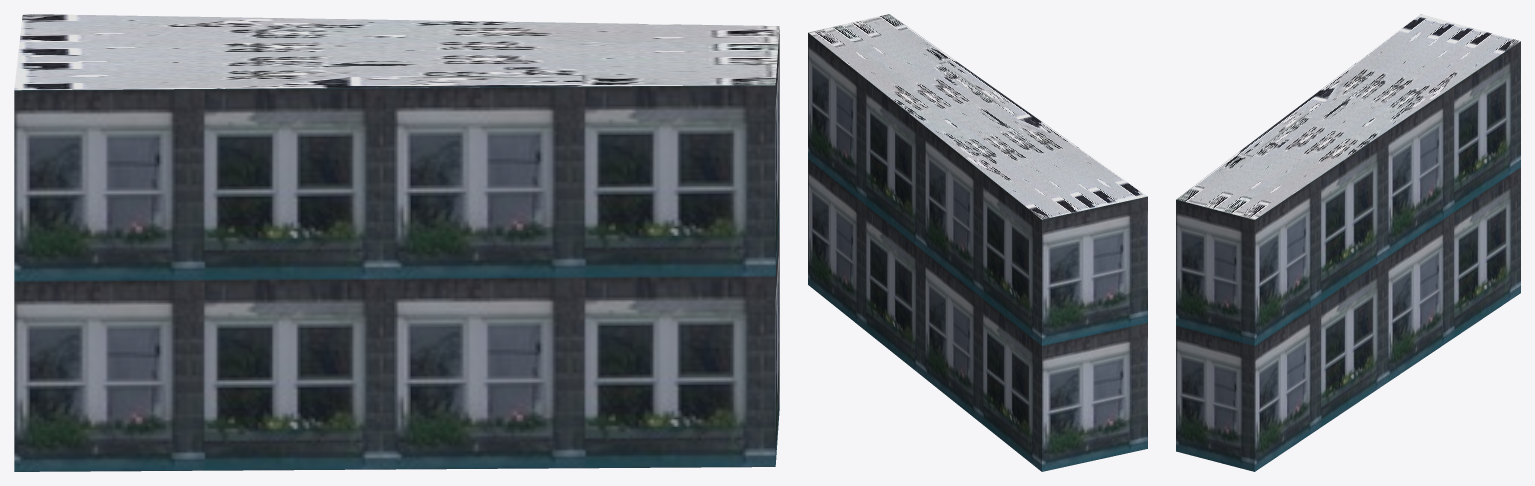
File: ResTex__5214.fbx
3 renders of one model, left to right at view 1: azimuth 30°, elevation 25°; view 2: azimuth 150°, elevation 25°; view 3: azimuth 270°, elevation 25°, orthographic. The views are drawn at different scales.
Visible parts, largest first — view 1: CityEngineMaterial_11_m, CityEngineMaterial_4_m; view 2: CityEngineMaterial_11_m, CityEngineMaterial_4_m; view 3: CityEngineMaterial_11_m, CityEngineMaterial_4_m.
Boxes of the visible parts, left/top/right/bottom form: CityEngineMaterial_11_m: left=14, top=29, right=779, bottom=471; CityEngineMaterial_4_m: left=14, top=14, right=779, bottom=90; CityEngineMaterial_11_m: left=808, top=33, right=1147, bottom=471; CityEngineMaterial_4_m: left=808, top=14, right=1147, bottom=219; CityEngineMaterial_11_m: left=1176, top=41, right=1520, bottom=471; CityEngineMaterial_4_m: left=1176, top=14, right=1520, bottom=219.
Size of the model in its own units: 10.52 by 6 by 7.44.
2 materials, 2 textured.
